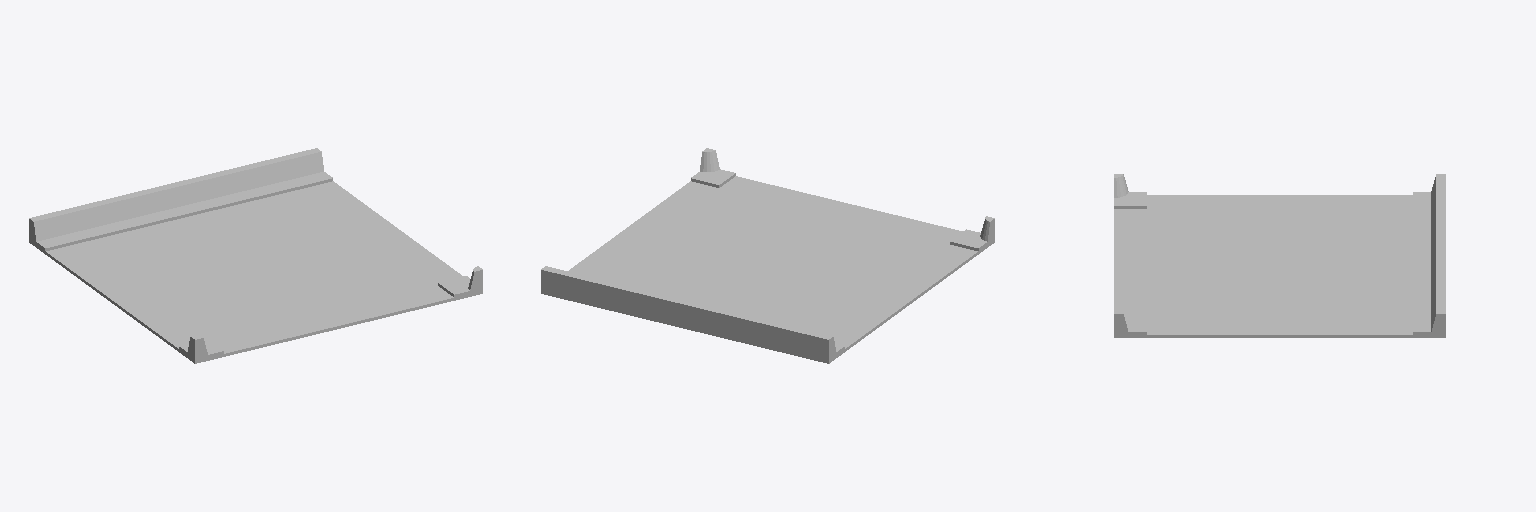
Rendered from city_road_junction_raised.obj.
3 views of the same model, side by side, from view 1: azimuth 30°, elevation 25°; view 2: azimuth 150°, elevation 25°; view 3: azimuth 270°, elevation 25° (orthographic).
Visible parts, largest first — view 1: city_road_junction; view 2: city_road_junction; view 3: city_road_junction.
Boxes of the visible parts, box(x1,y1,x2,y2) form: city_road_junction: box(29, 148, 482, 363); city_road_junction: box(541, 148, 994, 363); city_road_junction: box(1114, 174, 1445, 337).
Size of the model in its own units: 1 by 0.08 by 1.